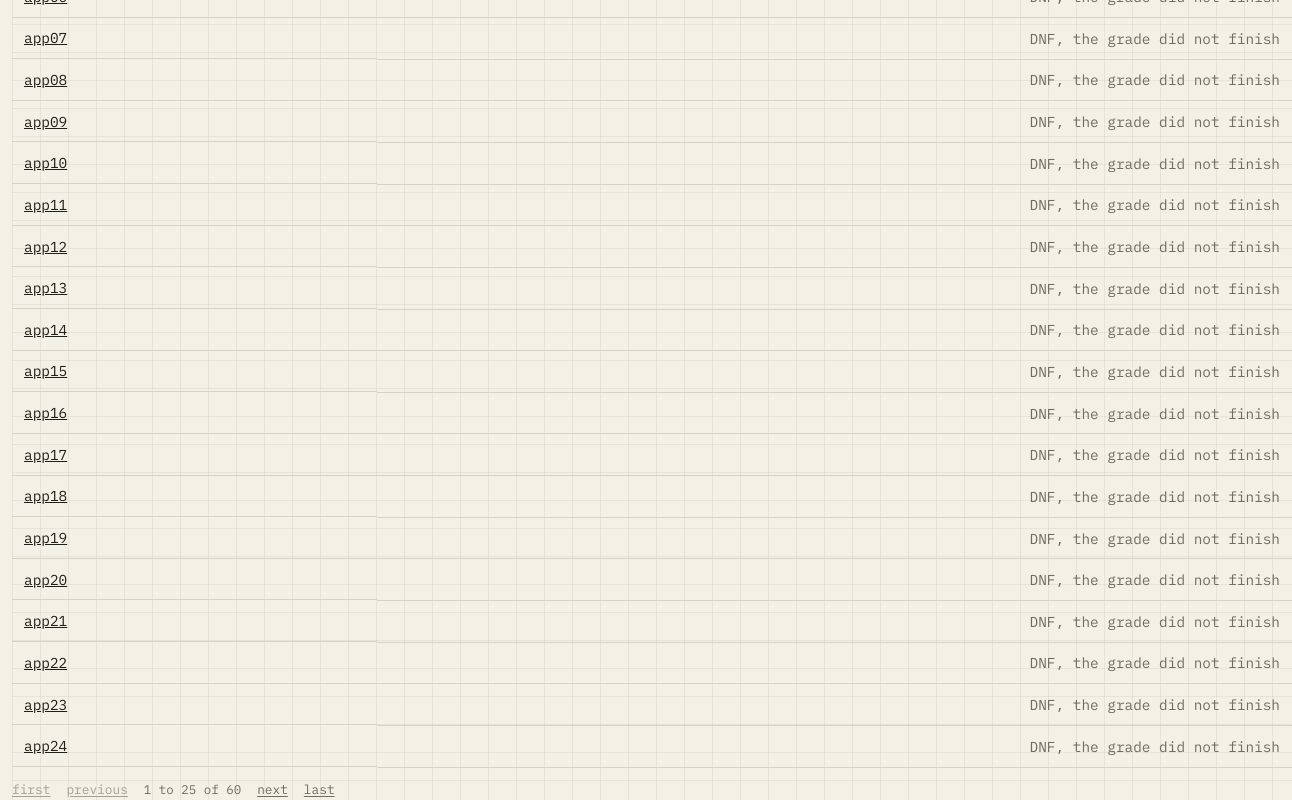
Test: AsideTable › returns to the first page when the sort changes
(page scrolled)
Click the button "next".
click(272, 790)  # box [257, 780, 288, 799]
(page scrolled)
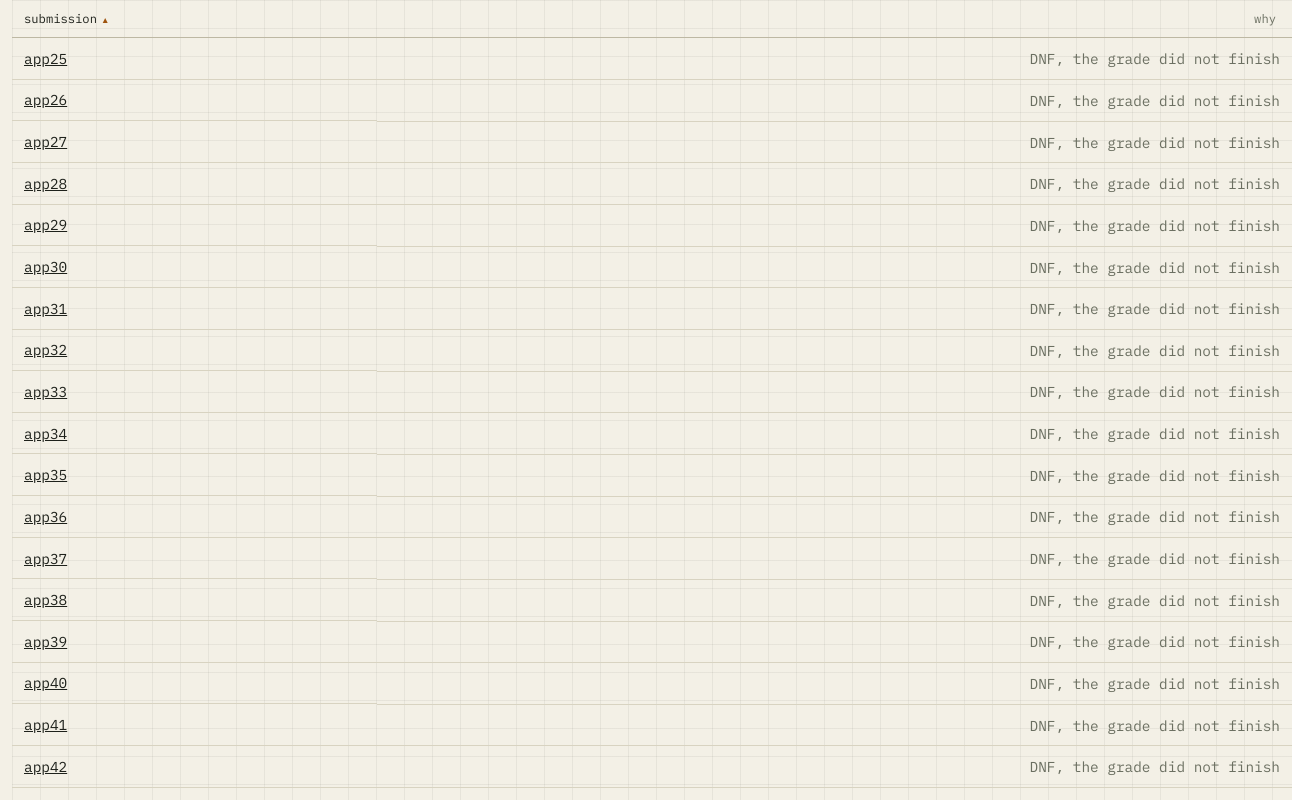
Click the button "submission▲".
click(67, 18)  # box [24, 9, 109, 28]
(page scrolled)
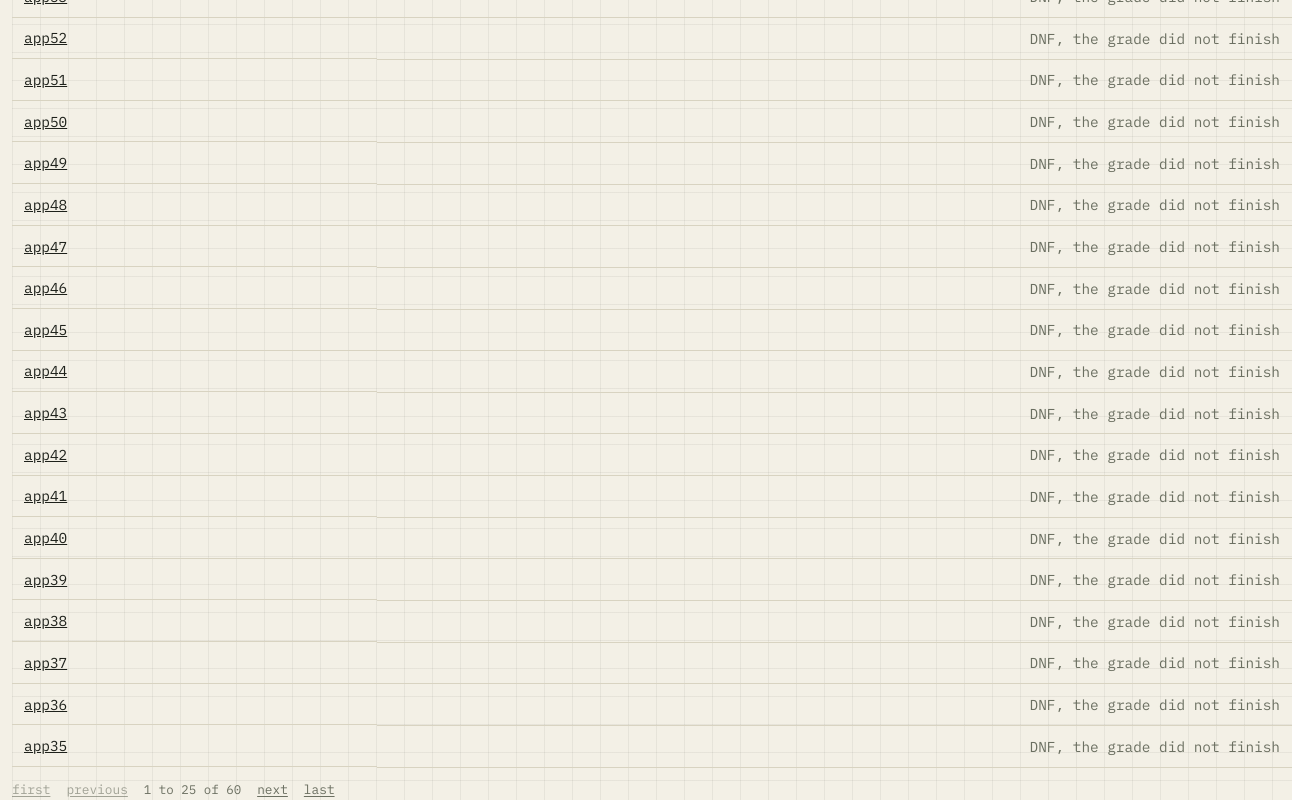
Expected: the text "1 to 25 of 60" is shown, [144, 780, 241, 799]
